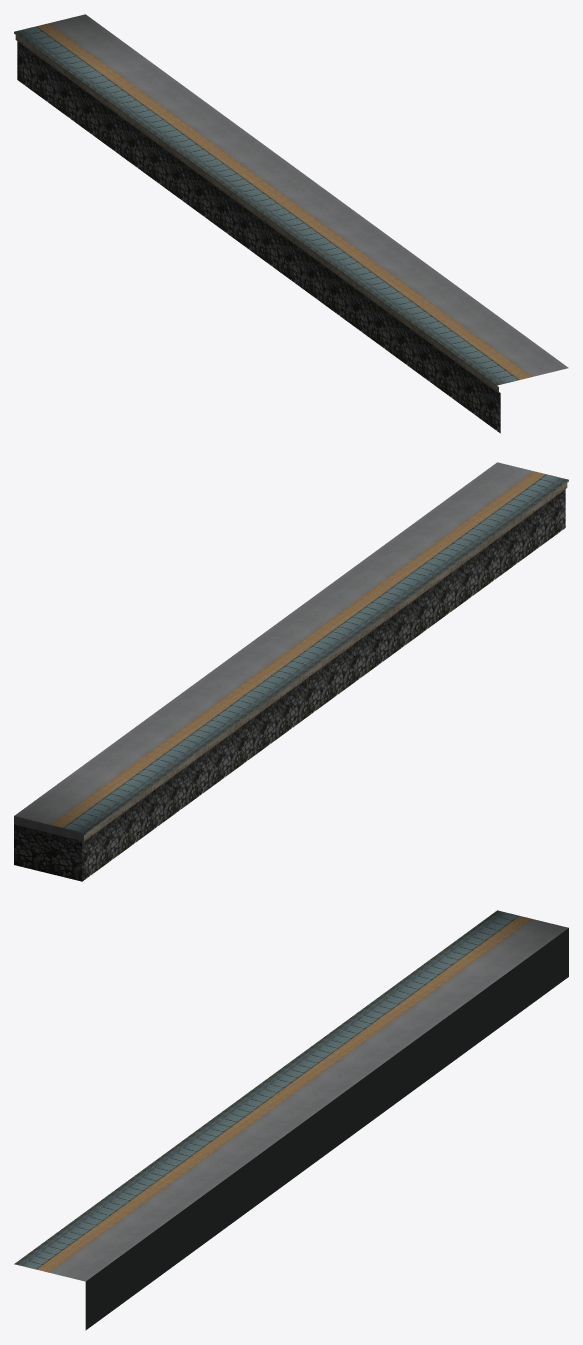
Rendered from AMB_MEI_HOME_S00.glb.
3 views of the same model, one above another, from view 1: azimuth 30°, elevation 25°; view 2: azimuth 150°, elevation 25°; view 3: azimuth 330°, elevation 25° (orthographic).
Parts seen in each view (by area): view 1: Mesh1; view 2: Mesh1; view 3: Mesh1.
Boxes of the visible parts, <box> form: Mesh1: <box>14,14,568,433</box>; Mesh1: <box>14,462,568,881</box>; Mesh1: <box>14,910,568,1330</box>.
Size of the model in its own units: 8.56 by 5.59 by 100.
Materials: 7 (7 with a texture image).
